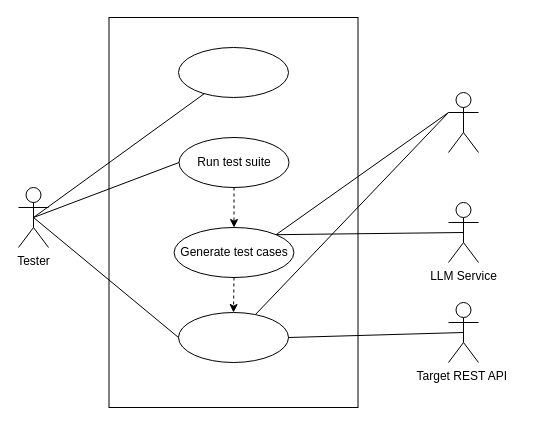
This 536x425 diagram has some shape labels left out. The centre of each missing label's shape, as x and y in pixels:
"AutoRestTest engine" goes at point (463, 122).
"Monitor live progress" goes at point (233, 72).
"Send requests to target" goes at point (233, 337).
